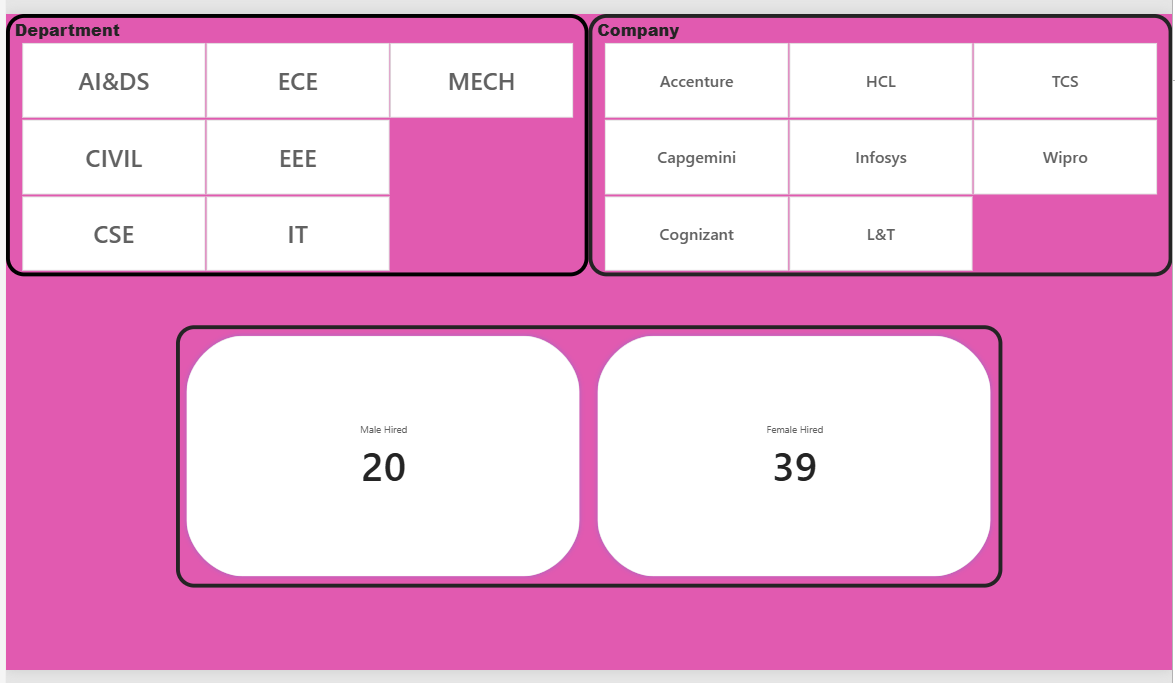

This screenshot's page, from the dashboard's own definition file:
{"tool":"powerbi","page":{"name":"Page 4","canvas":[1920,1080],"ordinal":3},"visuals":[{"type":"slicer","fields":{"Values":["Enhanced_Engineering_College_Placement_Record (4).Department"]},"box":[0,0,959.2,432.2],"z":0},{"type":"slicer","fields":{"Values":["Enhanced_Engineering_College_Placement_Record (4).Company"]},"box":[959.2,0,961.2,432.2],"z":1},{"type":"cardVisual","fields":{"Data":["Enhanced_Engineering_College_Placement_Record (4).Male Hired","Enhanced_Engineering_College_Placement_Record (4).Female Hired"]},"box":[279.9,512.5,1360.6,432.2],"z":2}]}

Visuals, with their boxes in screenshot pixels (x1, y1, x2, y2):
slicer - Enhanced_Engineering_College_Placement_Record (4).Department: [left=3, top=9, right=582, bottom=270]
slicer - Enhanced_Engineering_College_Placement_Record (4).Company: [left=582, top=9, right=1162, bottom=270]
cardVisual - Enhanced_Engineering_College_Placement_Record (4).Male Hired x Enhanced_Engineering_College_Placement_Record (4).Female Hired: [left=172, top=318, right=993, bottom=579]
